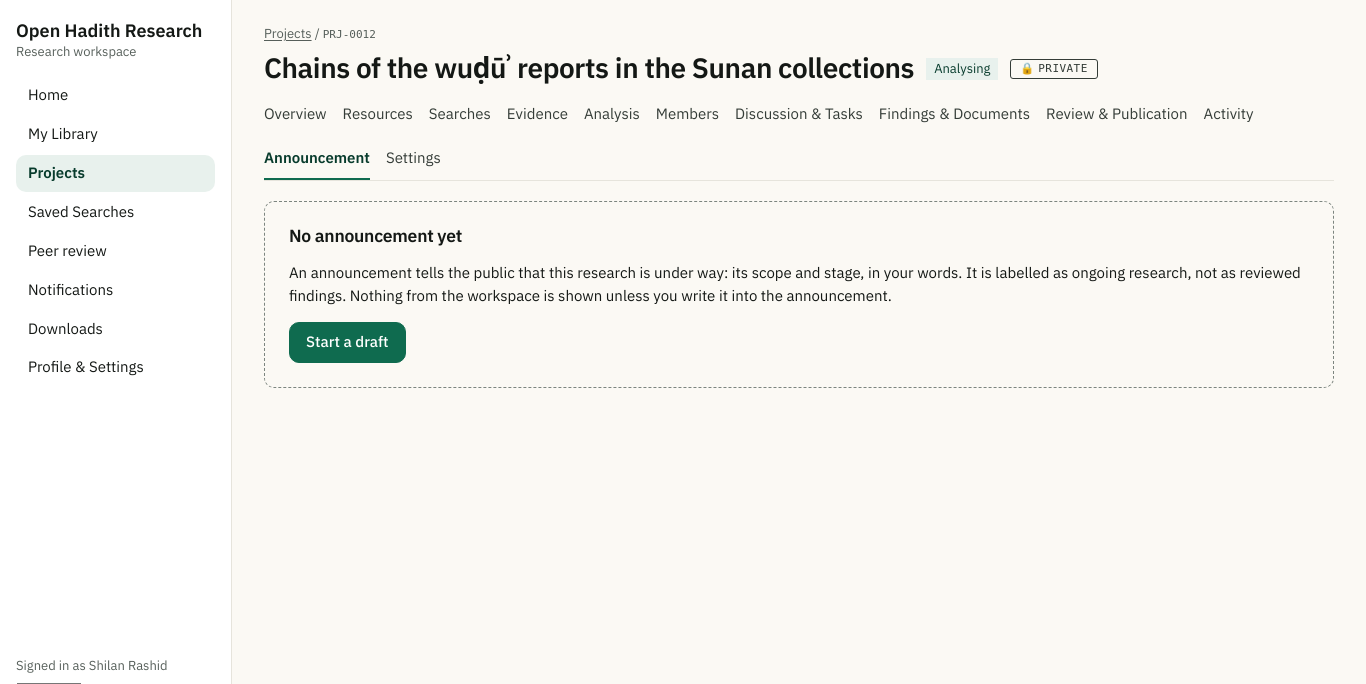
Scenario: Announcement (owner) › says there is none yet and starts a draft from the project’s own title and stage
Expected: the heading "No announcement yet" is shown, [289, 223, 462, 249]
Click the button "Start a draft" at (347, 343), box [289, 322, 406, 363]
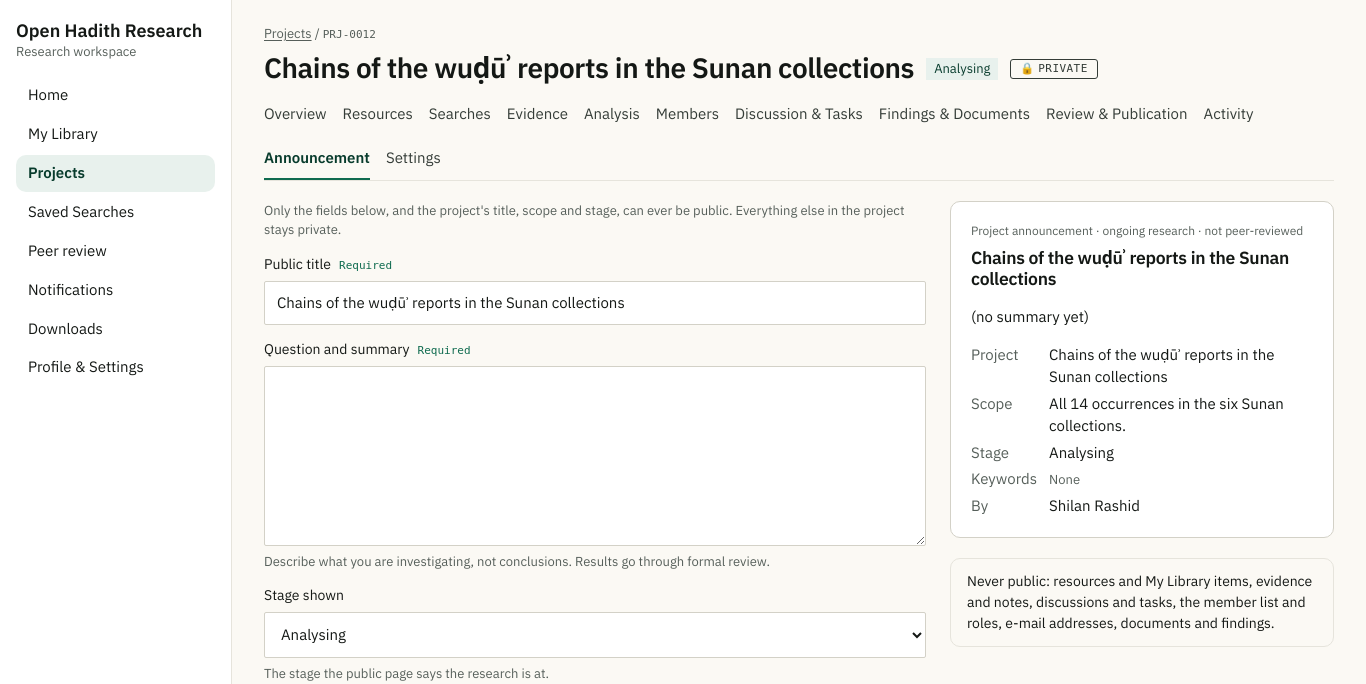
Expected: the field labelled "Public title Required" holds "Chains of the wuḍūʾ reports in the Sunan collections", [264, 281, 926, 325]
Expected: the dropdown labelled "Stage shown" shows "Analysing", [264, 612, 926, 658]
